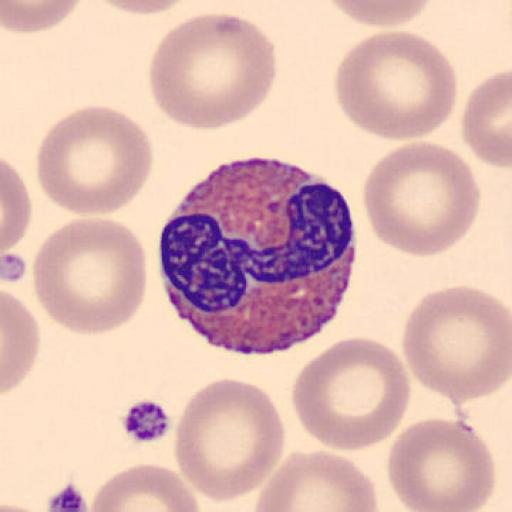Platelet: (118, 396, 174, 446)
RBC: (148, 11, 277, 131), (290, 334, 413, 453), (172, 376, 286, 504), (32, 216, 149, 337), (333, 28, 458, 141), (362, 140, 481, 258), (400, 283, 512, 407), (35, 103, 156, 217), (386, 414, 497, 512), (252, 448, 378, 512), (88, 462, 201, 512), (461, 67, 512, 169), (0, 287, 40, 396), (322, 0, 435, 28), (1, 156, 32, 257), (2, 0, 86, 34), (89, 0, 198, 17), (0, 496, 43, 512), (1, 502, 46, 512)
WBC: (160, 156, 358, 355)
